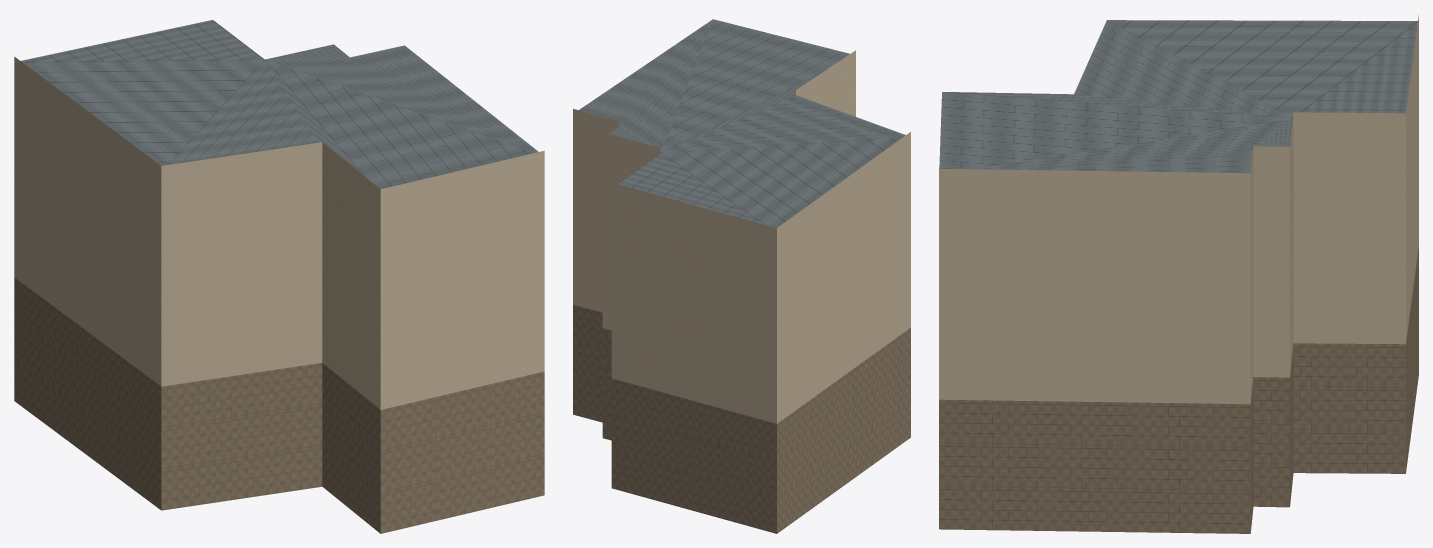
Rendered from bld_c-10_33_436.gltf.
The picture shows the model from 3 angles, left to right: view 1: azimuth 30°, elevation 25°; view 2: azimuth 150°, elevation 25°; view 3: azimuth 270°, elevation 25°; orthographic projection. The views are drawn at different scales.
Parts seen in each view (by area): view 1: bld_c-10_33_436; view 2: bld_c-10_33_436; view 3: bld_c-10_33_436.
Boxes of the visible parts, bbox=[...] form: bld_c-10_33_436: bbox=[14, 20, 544, 533]; bld_c-10_33_436: bbox=[573, 19, 910, 533]; bld_c-10_33_436: bbox=[939, 15, 1418, 533].
Bounding box in the file's own units: 13.43 × 14.18 × 17.09.
Materials: 4 (4 with a texture image).
